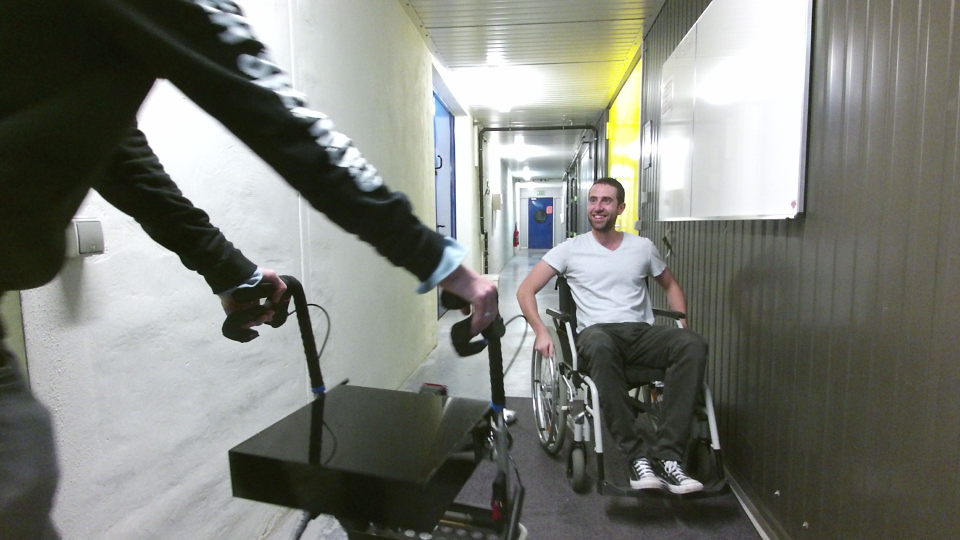wheelchair: (517, 173, 728, 507)
